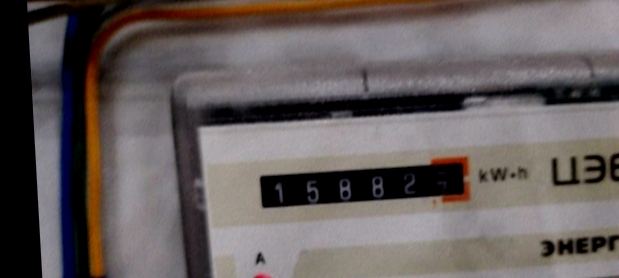1: (272, 179, 287, 205)
2: (401, 170, 418, 195)
5: (303, 176, 321, 203)
7: (435, 176, 450, 196)
8: (336, 176, 354, 202), (369, 173, 386, 199)
screen: (244, 148, 481, 224)
